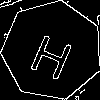H: (27, 25, 79, 82)
